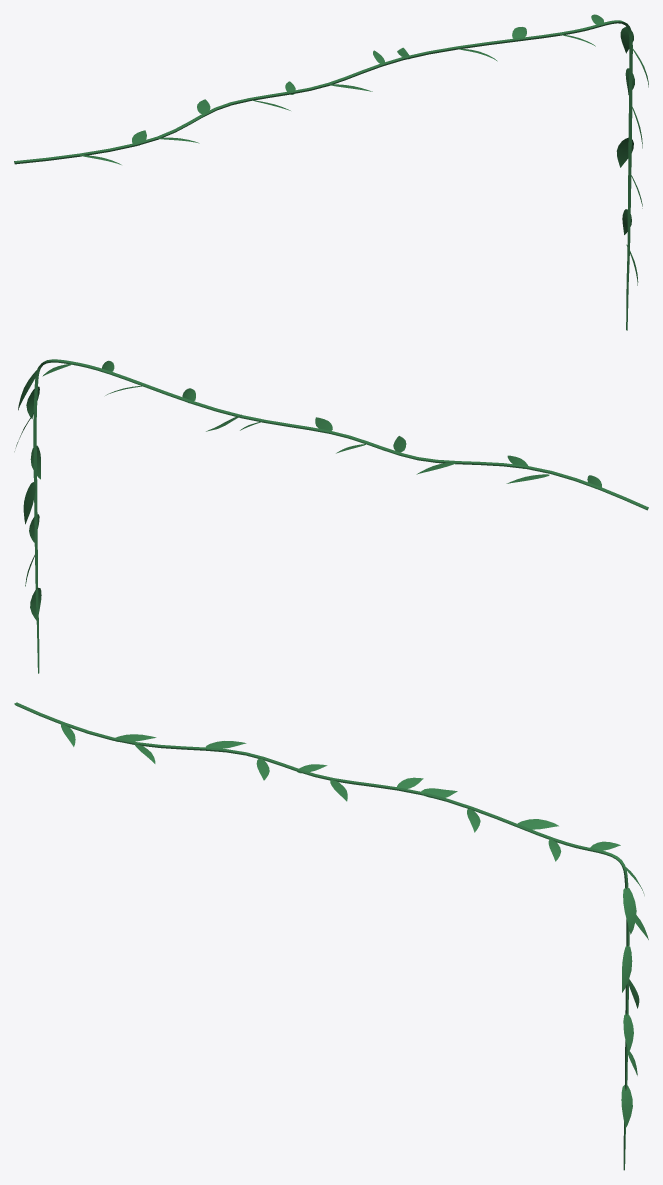
The model's file is vine_B_scanden.fbx.
3 renders of one model, top to bottom at view 1: azimuth 30°, elevation 25°; view 2: azimuth 150°, elevation 25°; view 3: azimuth 330°, elevation 25°, orthographic.
Visible parts, largest first — view 1: vine_B_scanden_root, vine_B_scanden_root1; view 2: vine_B_scanden_root1, vine_B_scanden_root; view 3: vine_B_scanden_root1, vine_B_scanden_root.
Boxes of the visible parts, x1,y1,x2,y2 form: vine_B_scanden_root: (14, 20, 632, 330); vine_B_scanden_root1: (15, 20, 632, 276); vine_B_scanden_root1: (33, 359, 648, 673); vine_B_scanden_root: (33, 359, 648, 673); vine_B_scanden_root1: (14, 702, 629, 1169); vine_B_scanden_root: (14, 702, 629, 1170).
Size of the model in its own units: 390 by 190 by 55.35.
